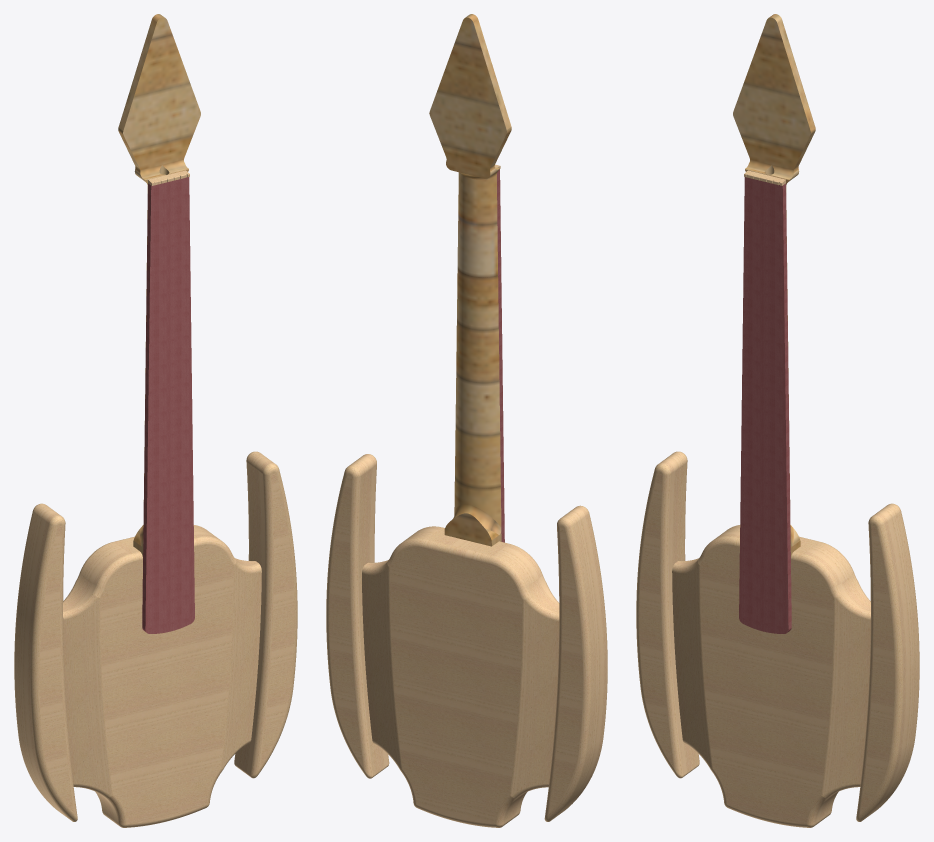
File: Assembled.glb
The picture shows the model from 3 angles, left to right: view 1: azimuth 30°, elevation 25°; view 2: azimuth 150°, elevation 25°; view 3: azimuth 330°, elevation 25°; orthographic projection.
Parts seen in each view (by area): view 1: mesh_id5, mesh_id4, mesh_id6; view 2: mesh_id5, mesh_id6, mesh_id4; view 3: mesh_id5, mesh_id4, mesh_id6.
Part boxes in pixels (left/top/right/bottom): mesh_id5: left=14, top=170, right=297, bottom=827; mesh_id4: left=142, top=177, right=194, bottom=633; mesh_id6: left=118, top=14, right=200, bottom=556; mesh_id5: left=326, top=164, right=607, bottom=827; mesh_id6: left=429, top=14, right=511, bottom=546; mesh_id4: left=454, top=169, right=504, bottom=542; mesh_id5: left=636, top=170, right=919, bottom=827; mesh_id4: left=739, top=177, right=791, bottom=633; mesh_id6: left=733, top=14, right=815, bottom=556.
Size of the model in its own units: 0.1777 by 0.512 by 0.0299.
Materials: 3 (3 with a texture image).
